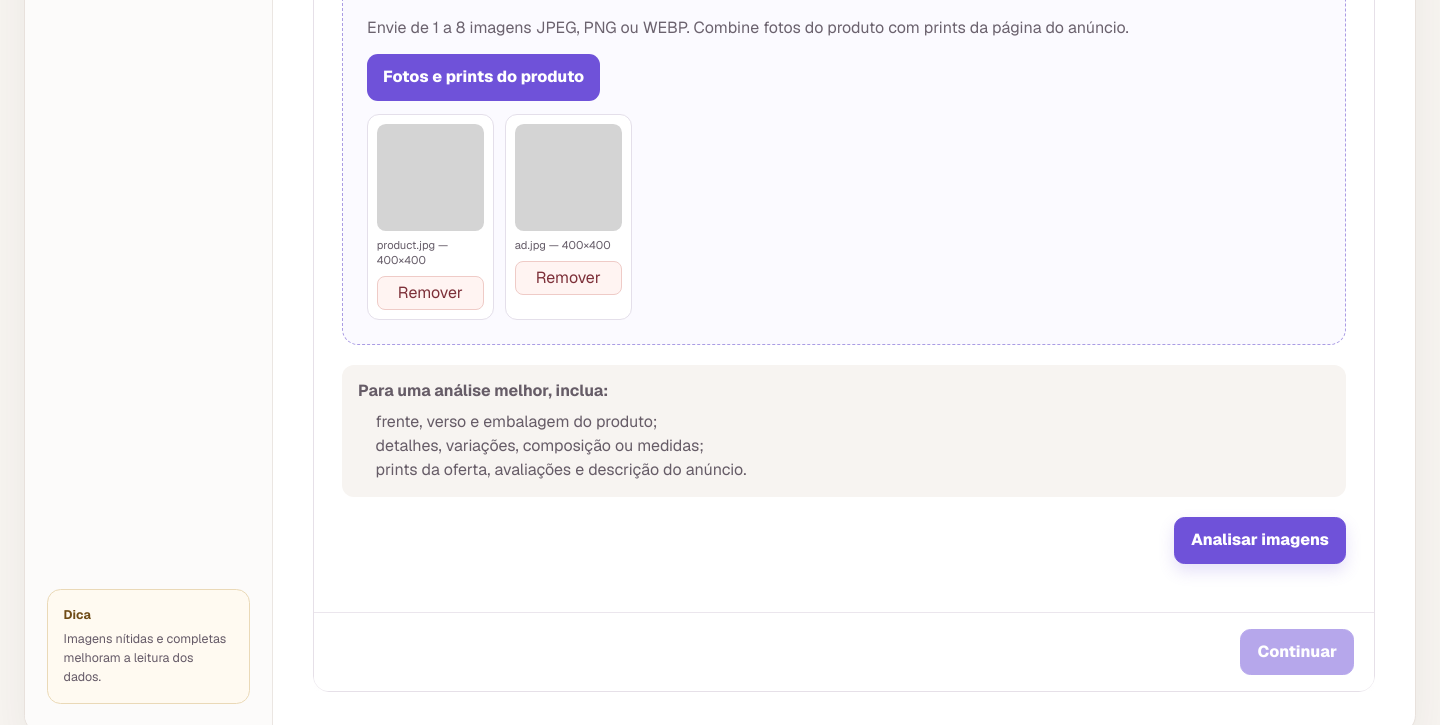
it: GenerationWizard › extracts product and legacy ad sources, opens review and blocks stale analysis
(page scrolled)
Click the button "Analisar imagens".
click(1260, 540)  # box [1174, 517, 1346, 564]
(page scrolled)
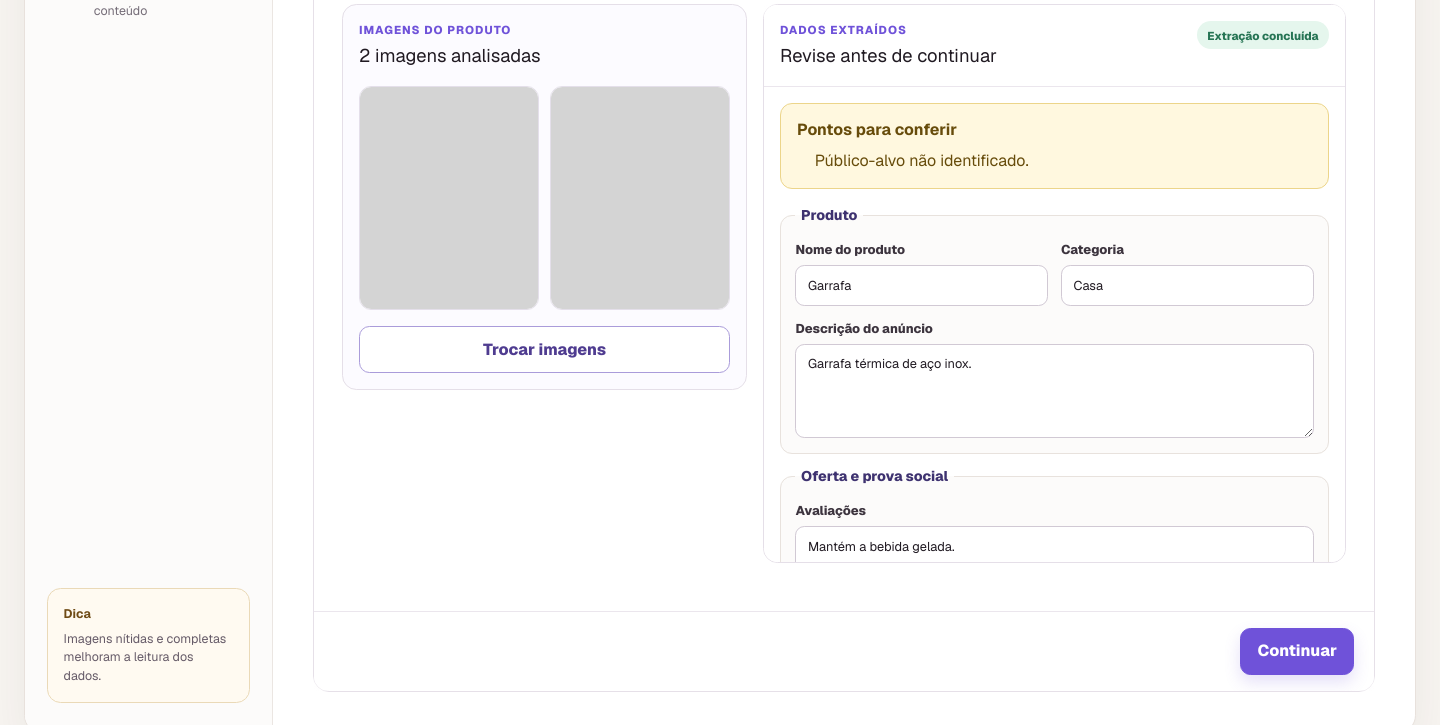
expect the field labelled "Nome do produto" holds "Garrafa": met, box [796, 265, 1048, 306]
expect the field labelled "Categoria" holds "Casa": met, box [1061, 265, 1314, 306]
expect the text box labelled "Descrição do anúncio" holds "Garrafa térmica de aço inox.": met, box [796, 344, 1314, 438]
Click the button "Trocar imagens".
click(545, 350)  # box [359, 326, 730, 373]
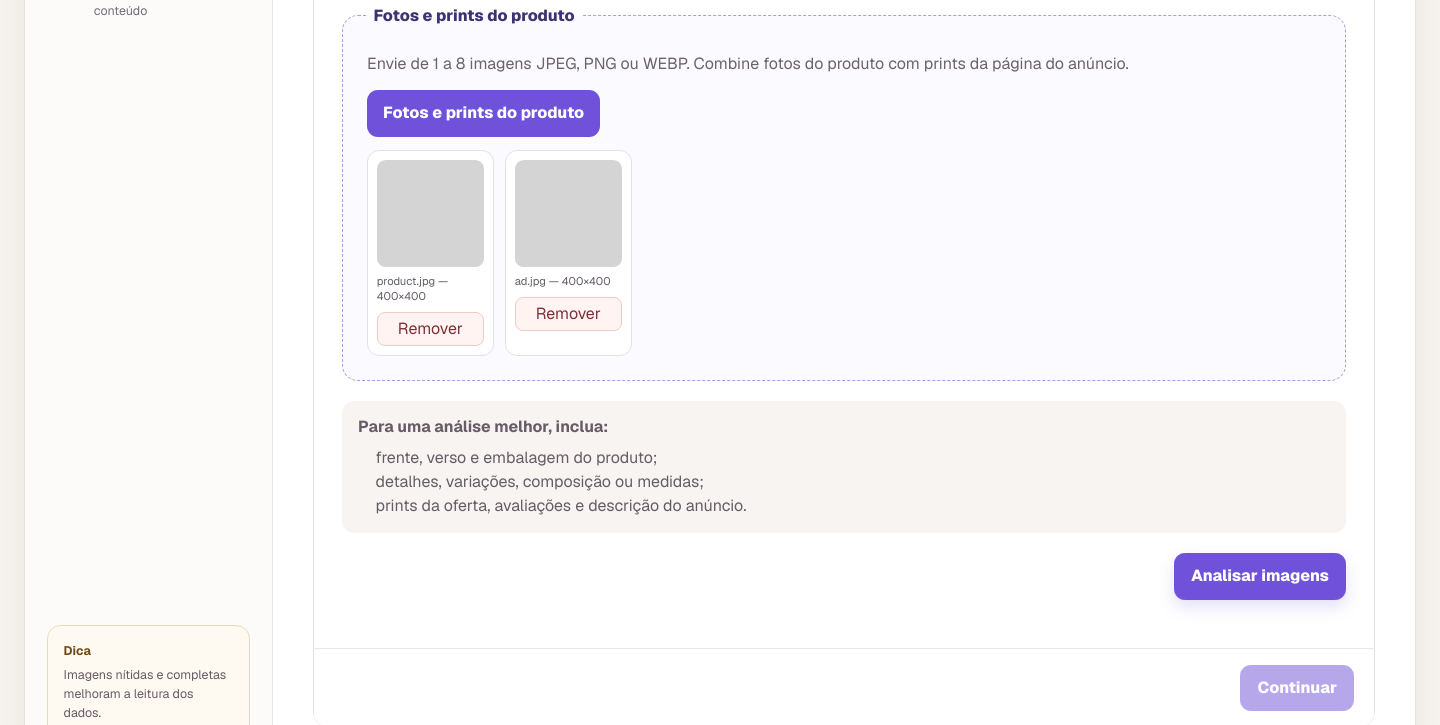
Click the button with aria-label "remover product.jpg".
click(430, 329)  # box [377, 312, 484, 346]
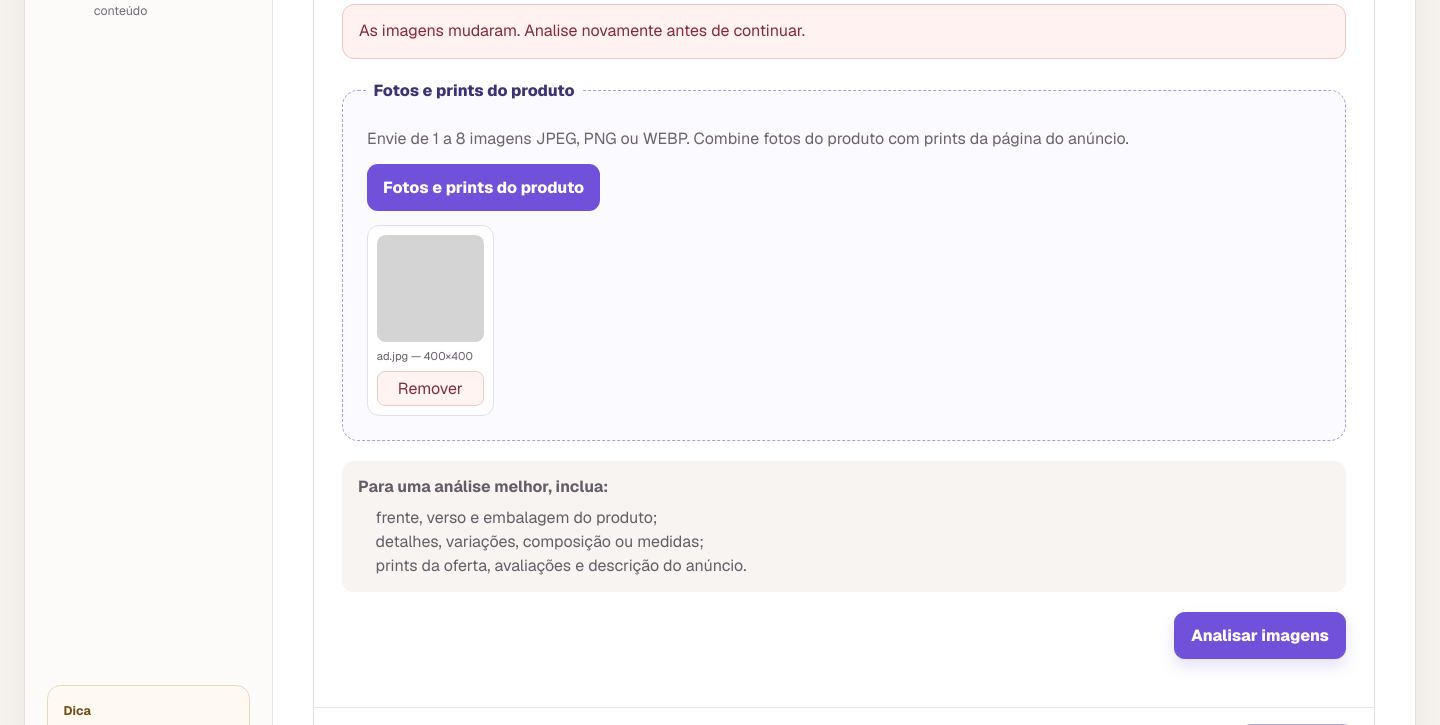
expect the message reads "As imagens mudaram. Analise novamente antes de continuar.": met, box [359, 20, 805, 41]
